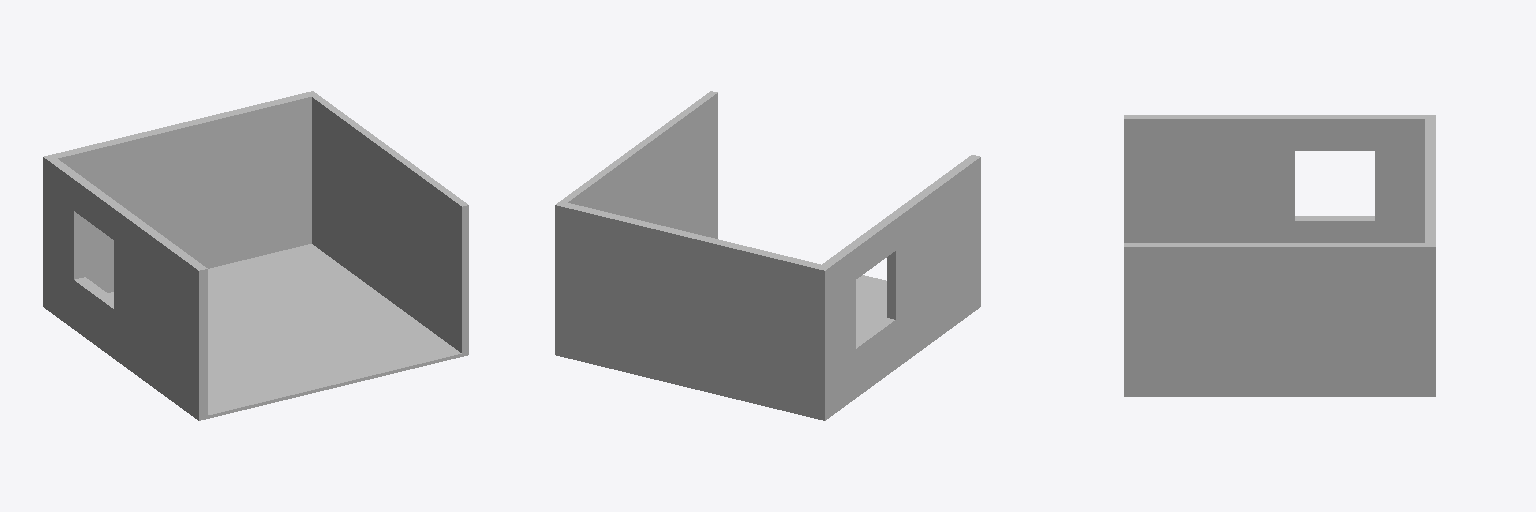
The model's file is cabin_room_export.obj.
The picture shows the model from 3 angles: view 1: azimuth 30°, elevation 25°; view 2: azimuth 150°, elevation 25°; view 3: azimuth 270°, elevation 25°; orthographic projection.
Visible parts, largest first — view 1: mesh01; view 2: mesh01; view 3: mesh01.
Boxes of the visible parts, x1=… form: mesh01: x1=43, y1=91, x2=468, y2=420; mesh01: x1=555, y1=91, x2=980, y2=420; mesh01: x1=1124, y1=115, x2=1435, y2=396.
Size of the model in its own units: 409 by 218 by 409.